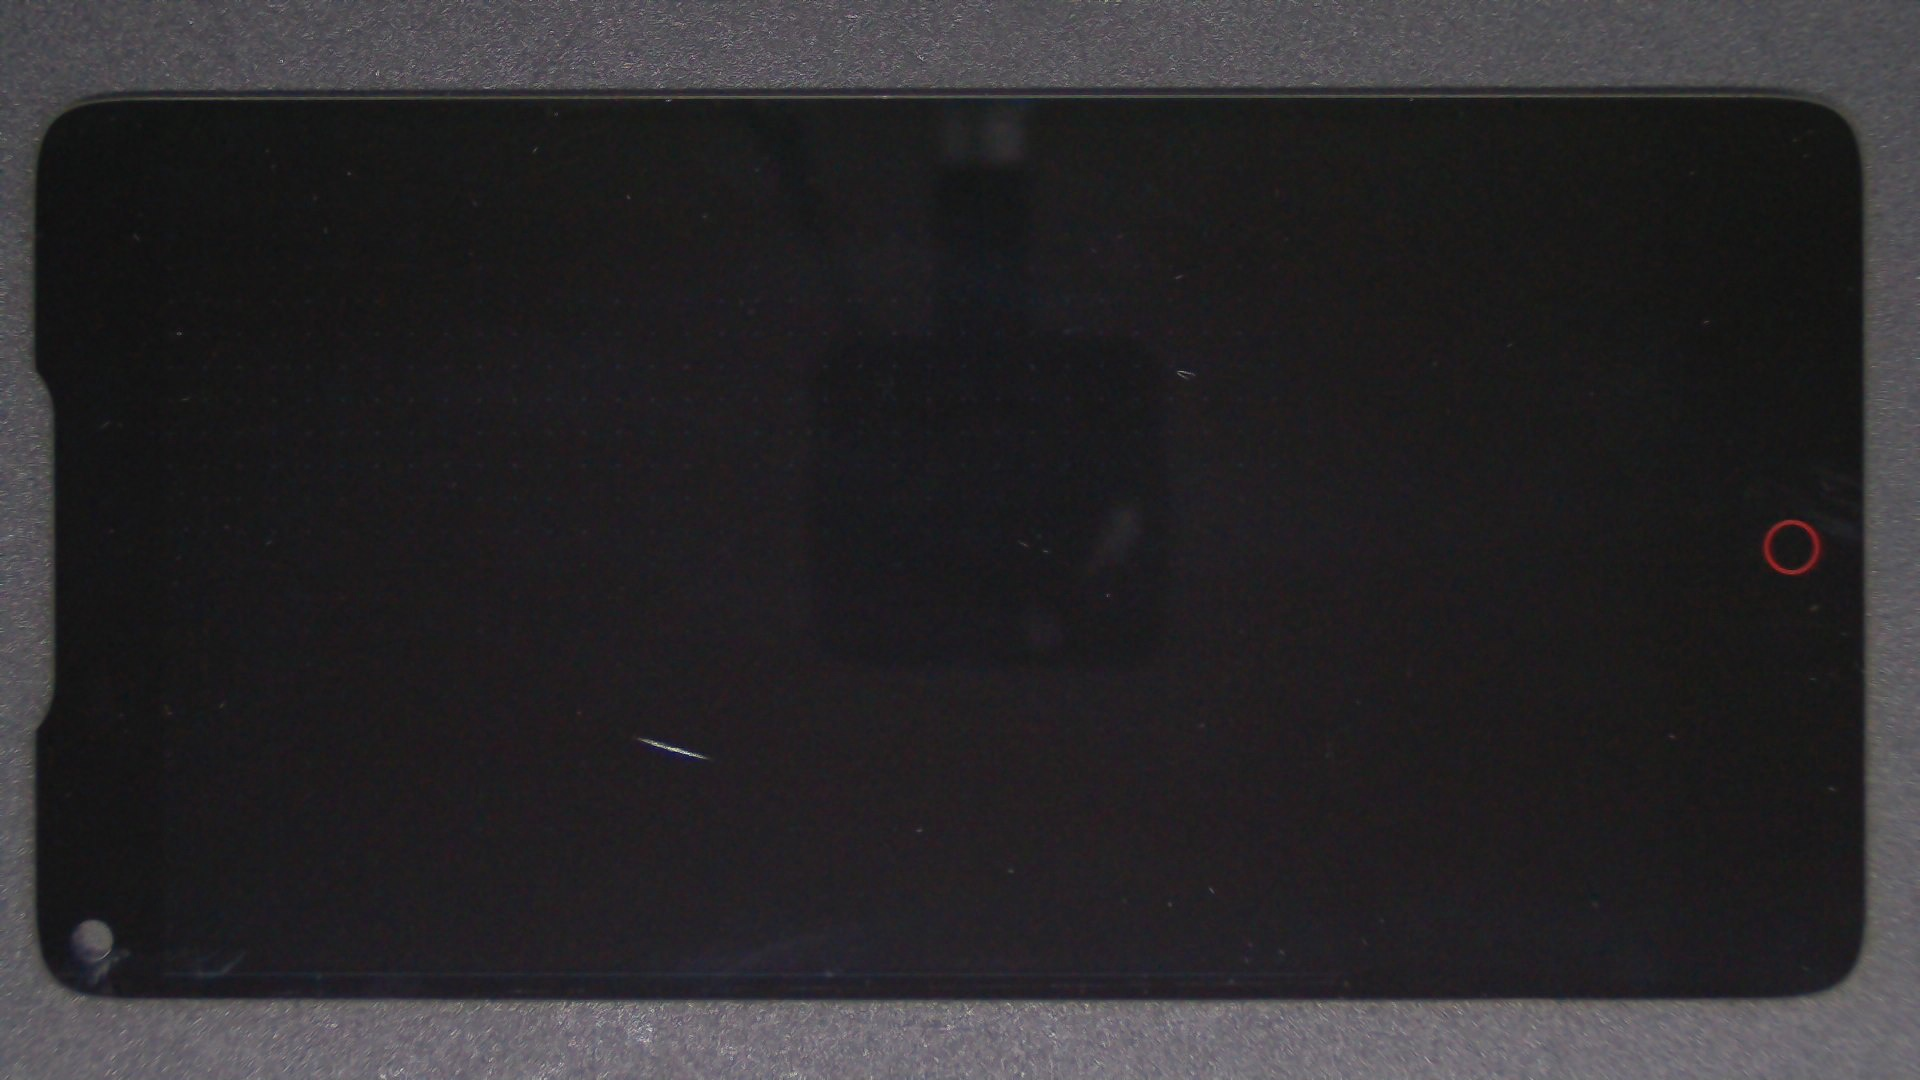oil: (319, 367, 953, 1080)
